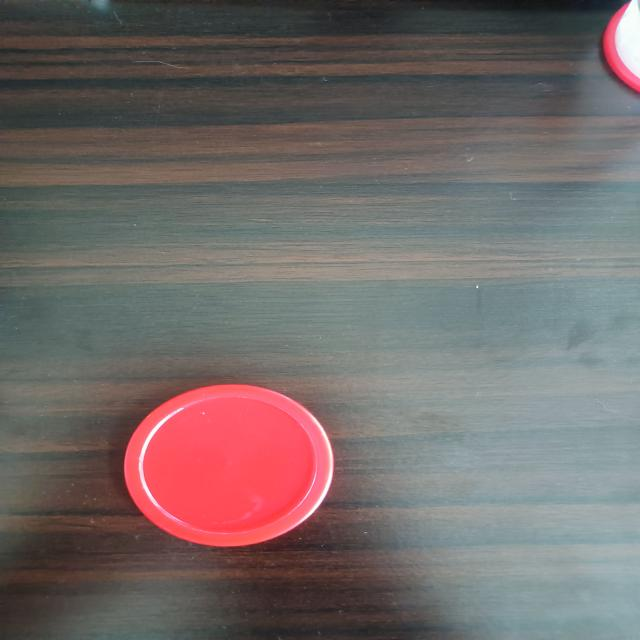chip: (120, 382, 338, 548), (601, 0, 640, 97)
